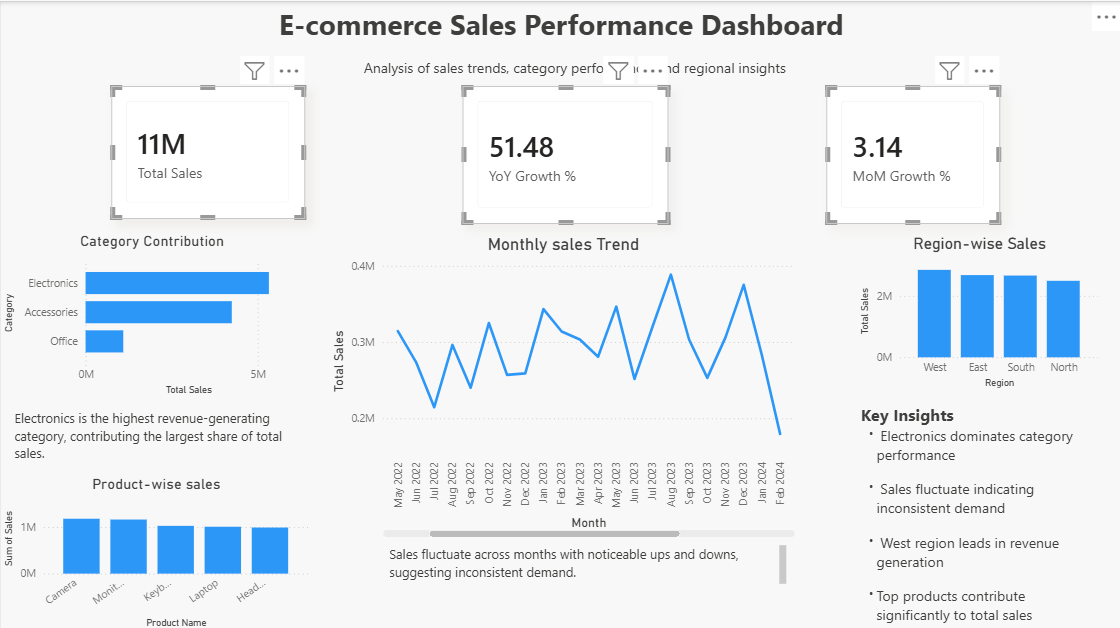

Layout of this report page (visuals, bound fields, positions):
{"tool":"powerbi","page":{"name":"Page 1","canvas":[1280,720],"ordinal":0},"visuals":[{"type":"cardVisual","fields":{"Data":["ecommerce_sales_data.YoY Growth %"]},"box":[527.6,97.4,234.6,156.4],"z":0},{"type":"cardVisual","fields":{"Data":["ecommerce_sales_data.MoM Growth %"]},"box":[942.7,97.4,197.6,156.4],"z":1000},{"type":"lineChart","title":"Monthly sales Trend","fields":{"Category":["ecommerce_sales_data.Month"],"Y":["ecommerce_sales_data.Total Sales"]},"box":[373.2,266.2,537.9,349.9],"z":2000},{"type":"clusteredBarChart","title":"Category Contribution","fields":{"Category":["ecommerce_sales_data.Category"],"Y":["ecommerce_sales_data.Total Sales"]},"box":[0,264.1,347.3,190.8],"z":3000},{"type":"columnChart","title":"Region-wise Sales","fields":{"Category":["ecommerce_sales_data.Region"],"Y":["ecommerce_sales_data.Total Sales"]},"box":[977,266.2,281.3,179.8],"z":4000},{"type":"columnChart","title":"Product-wise sales","fields":{"Category":["ecommerce_sales_data.Product Name"],"Y":["Sum(ecommerce_sales_data.Sales)"]},"box":[0,540.7,356.8,179.8],"z":5000},{"type":"textbox","box":[439.1,616.1,462.4,60.4],"z":6000},{"type":"textbox","box":[0,0,1280.3,97.4],"z":7000},{"type":"cardVisual","fields":{"Data":["ecommerce_sales_data.Total Sales"]},"box":[126.2,97.4,220.9,150.9],"z":8000},{"type":"textbox","box":[11,459.7,336.2,71.4],"z":9000},{"type":"textbox","box":[976.4,454.7,282.2,265.1],"z":10000}]}

Visuals, with their boxes in screenshot pixels (x1, y1, x2, y2), scaled from the page's 1280x720 canvas onto the 1120x628 screenshot:
cardVisual - ecommerce_sales_data.YoY Growth %: bbox=[462, 85, 667, 221]
cardVisual - ecommerce_sales_data.MoM Growth %: bbox=[825, 85, 998, 221]
"Monthly sales Trend" lineChart: bbox=[327, 232, 797, 537]
"Category Contribution" clusteredBarChart: bbox=[0, 230, 304, 397]
"Region-wise Sales" columnChart: bbox=[855, 232, 1101, 389]
"Product-wise sales" columnChart: bbox=[0, 472, 312, 627]
textbox: bbox=[384, 537, 789, 590]
textbox: bbox=[0, 0, 1119, 85]
cardVisual - ecommerce_sales_data.Total Sales: bbox=[110, 85, 304, 217]
textbox: bbox=[10, 401, 304, 463]
textbox: bbox=[854, 397, 1101, 627]
